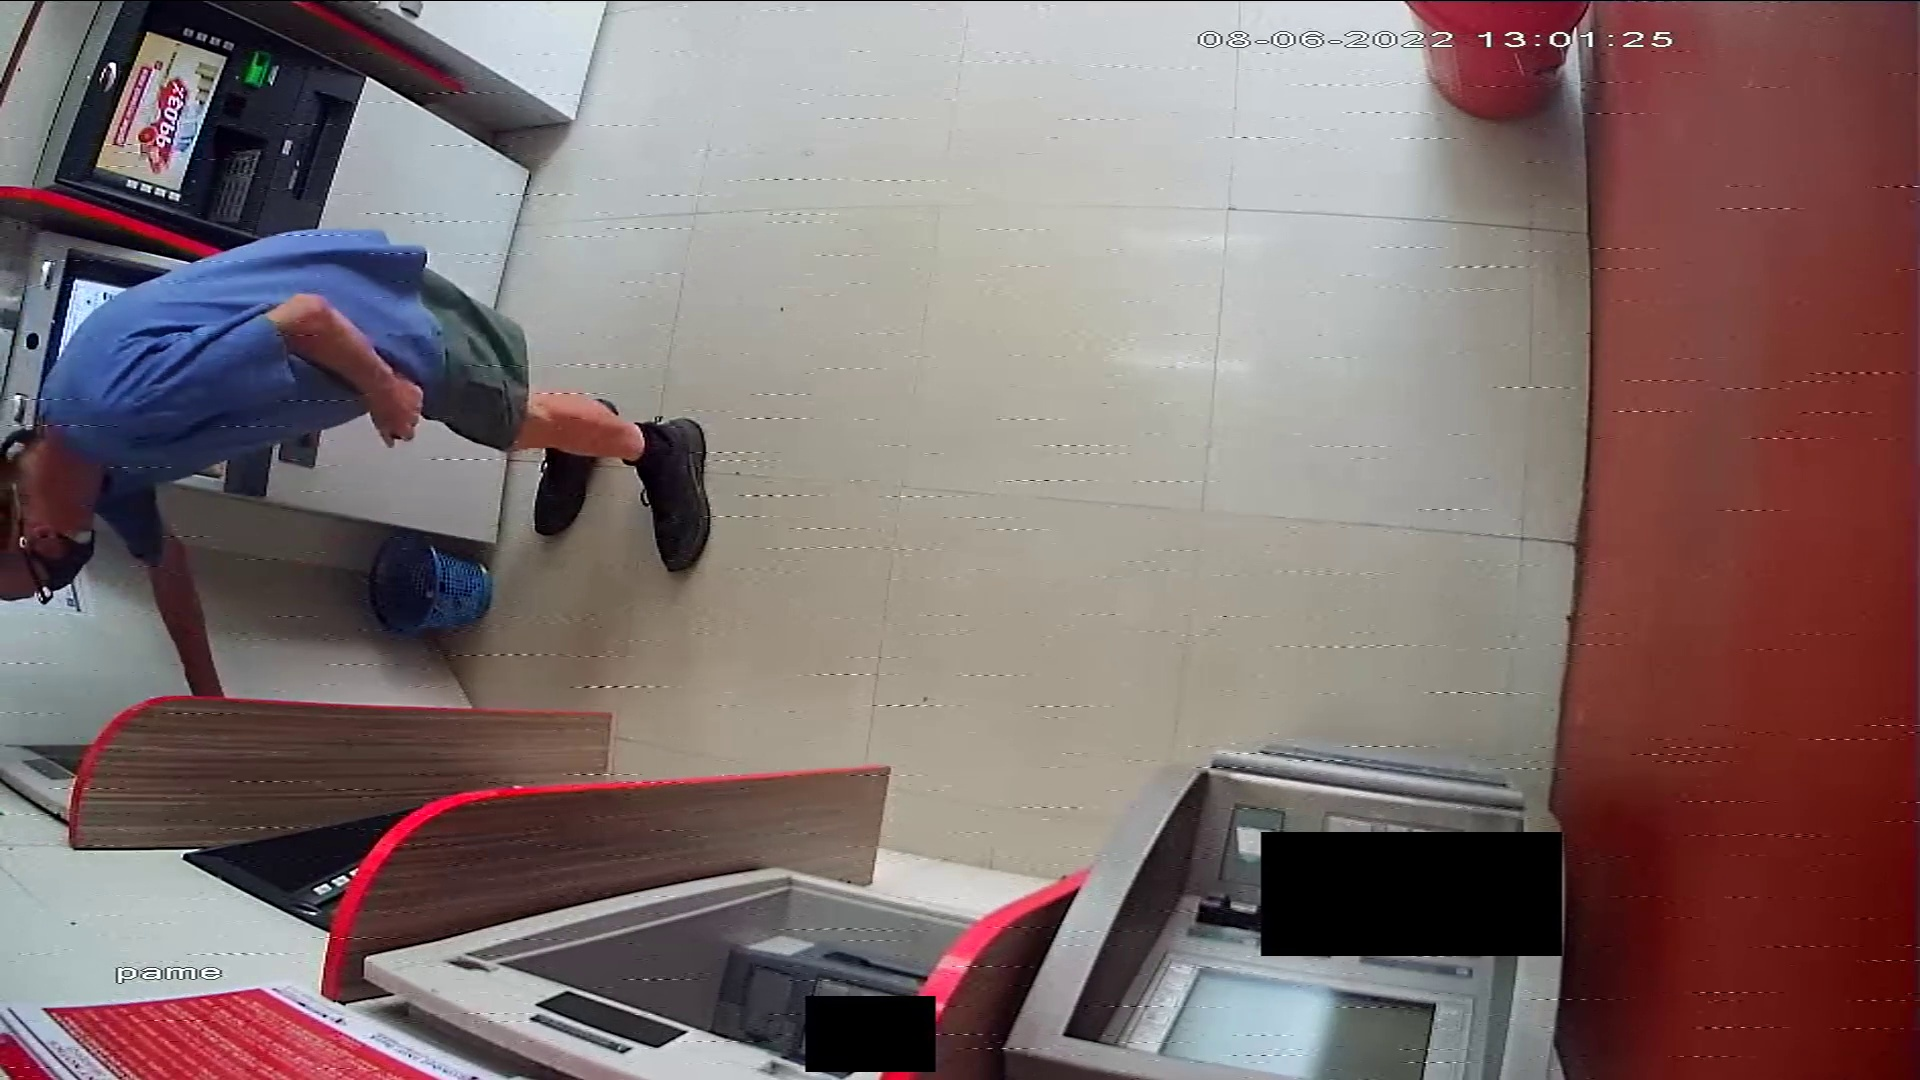person: (1, 228, 718, 698)
